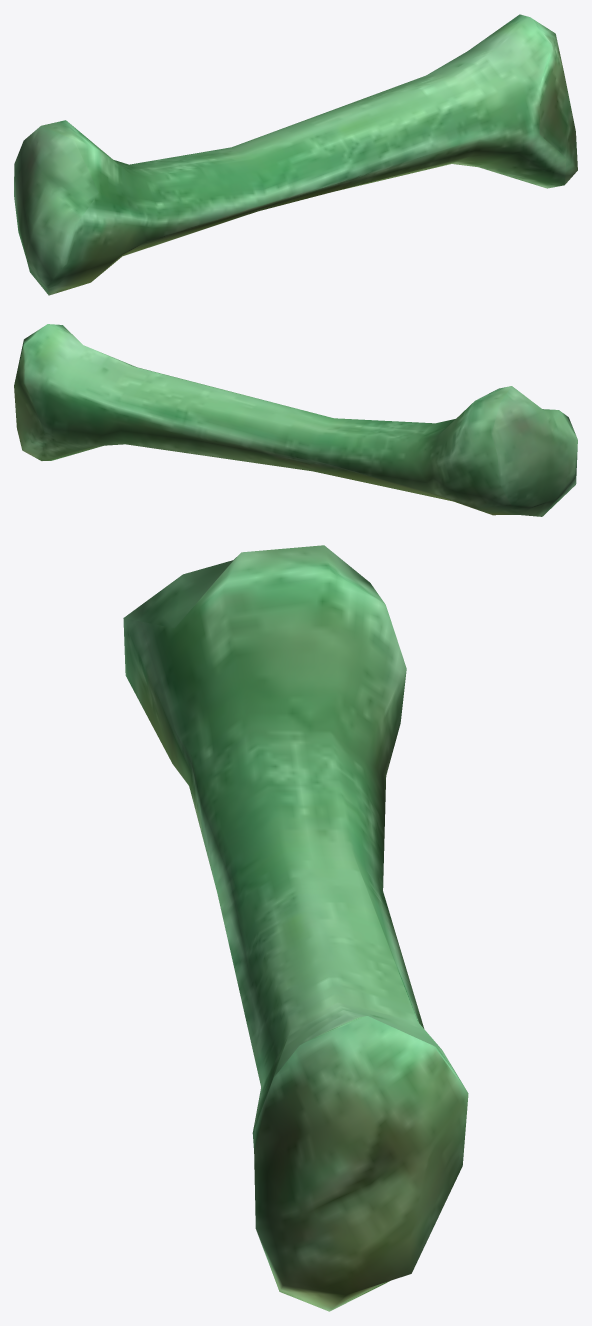
The picture shows the model from 3 angles, top to bottom: view 1: azimuth 30°, elevation 25°; view 2: azimuth 150°, elevation 25°; view 3: azimuth 270°, elevation 25°; orthographic projection. The views are drawn at different scales.
Parts seen in each view (by area): view 1: SM_U_MED_Skeleton_Human_upperarm_l_LOD0; view 2: SM_U_MED_Skeleton_Human_upperarm_l_LOD0; view 3: SM_U_MED_Skeleton_Human_upperarm_l_LOD0.
Part boxes in pixels (x1=…): SM_U_MED_Skeleton_Human_upperarm_l_LOD0: x1=14, y1=14, x2=577, y2=295; SM_U_MED_Skeleton_Human_upperarm_l_LOD0: x1=14, y1=324, x2=577, y2=516; SM_U_MED_Skeleton_Human_upperarm_l_LOD0: x1=123, y1=545, x2=468, y2=1311.
Size of the model in its own units: 0.3161 by 0.0972 by 0.0916.
Materials: 1 (1 with a texture image).
